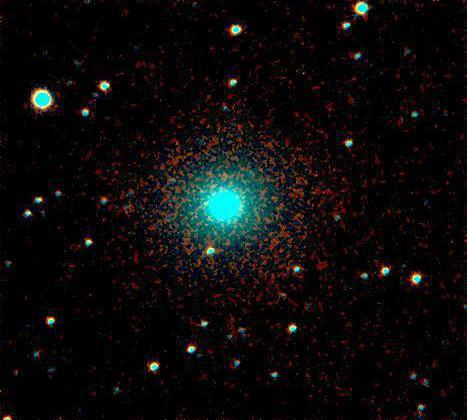star: (188, 187, 218, 217)
